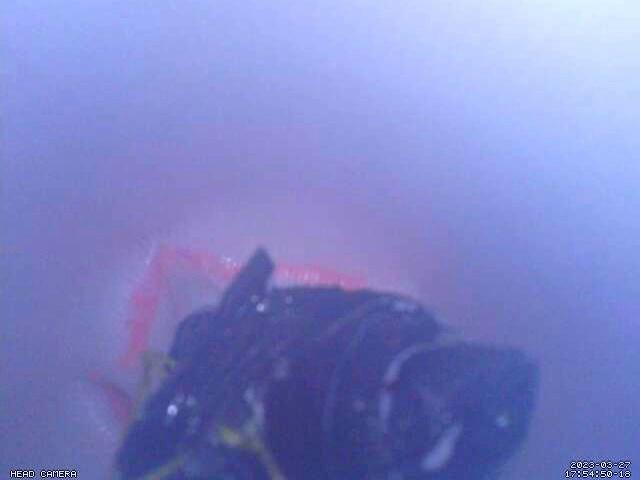head: (89, 240, 364, 431)
